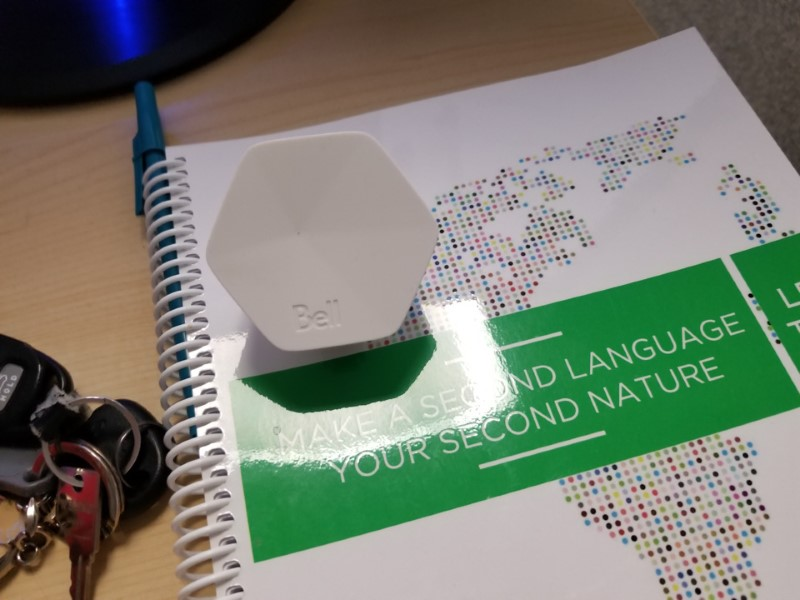pod: (200, 126, 441, 354)
